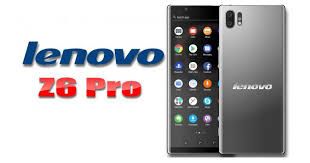lenovo: (166, 2, 289, 160), (216, 2, 291, 163)
